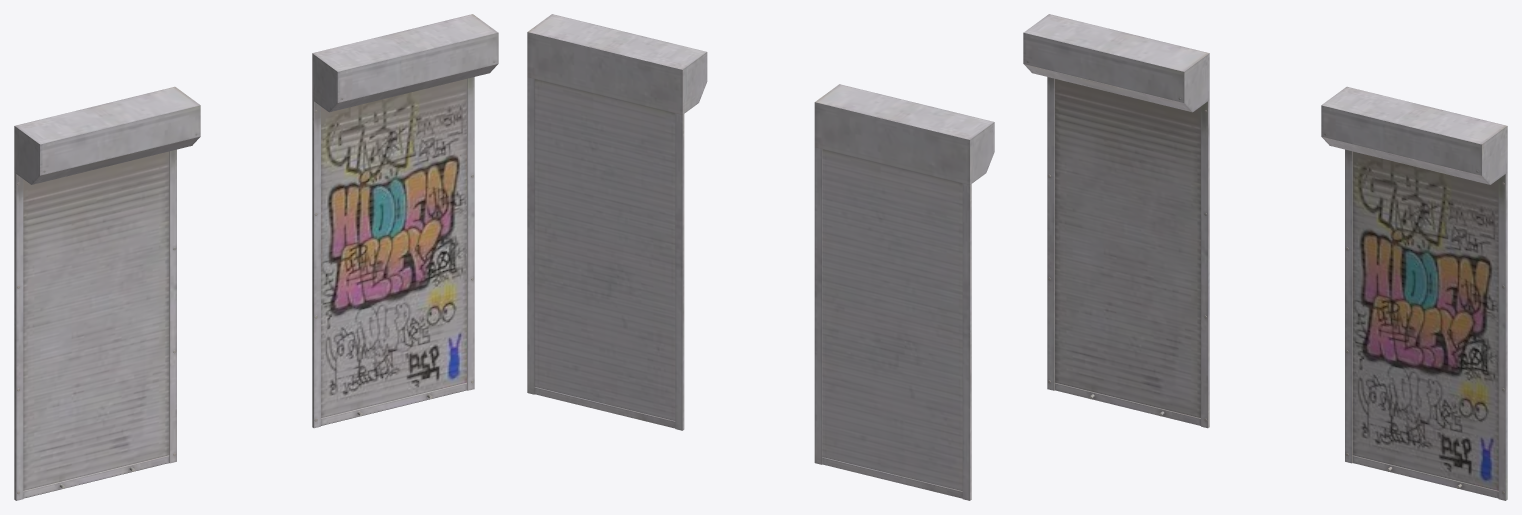
The model's file is dock_door.glb.
3 views of the same model, side by side, from view 1: azimuth 30°, elevation 25°; view 2: azimuth 150°, elevation 25°; view 3: azimuth 330°, elevation 25° (orthographic). The views are drawn at different scales.
Parts seen in each view (by area): view 1: rollershutter_door, rollershutter_door_graffiti; view 2: rollershutter_door, rollershutter_door_graffiti; view 3: rollershutter_door_graffiti, rollershutter_door.
Boxes of the visible parts, x1,y1,x2,y2 form: rollershutter_door: (14,86,200,500); rollershutter_door_graffiti: (312,14,498,428); rollershutter_door: (814,84,994,500); rollershutter_door_graffiti: (527,14,707,430); rollershutter_door_graffiti: (1321,86,1507,500); rollershutter_door: (1023,14,1209,428).
Bounding box in the file's own units: 3.08 × 2.4 × 0.3.
Materials: 2 (2 with a texture image).
